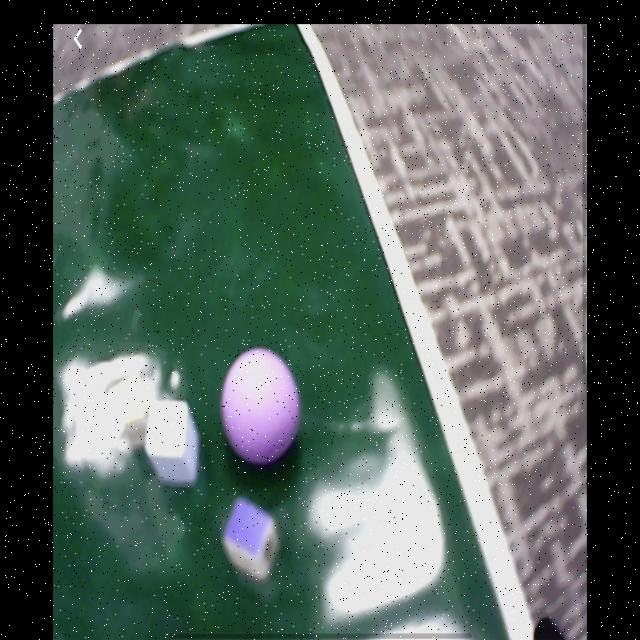ball: (223, 348, 300, 463)
